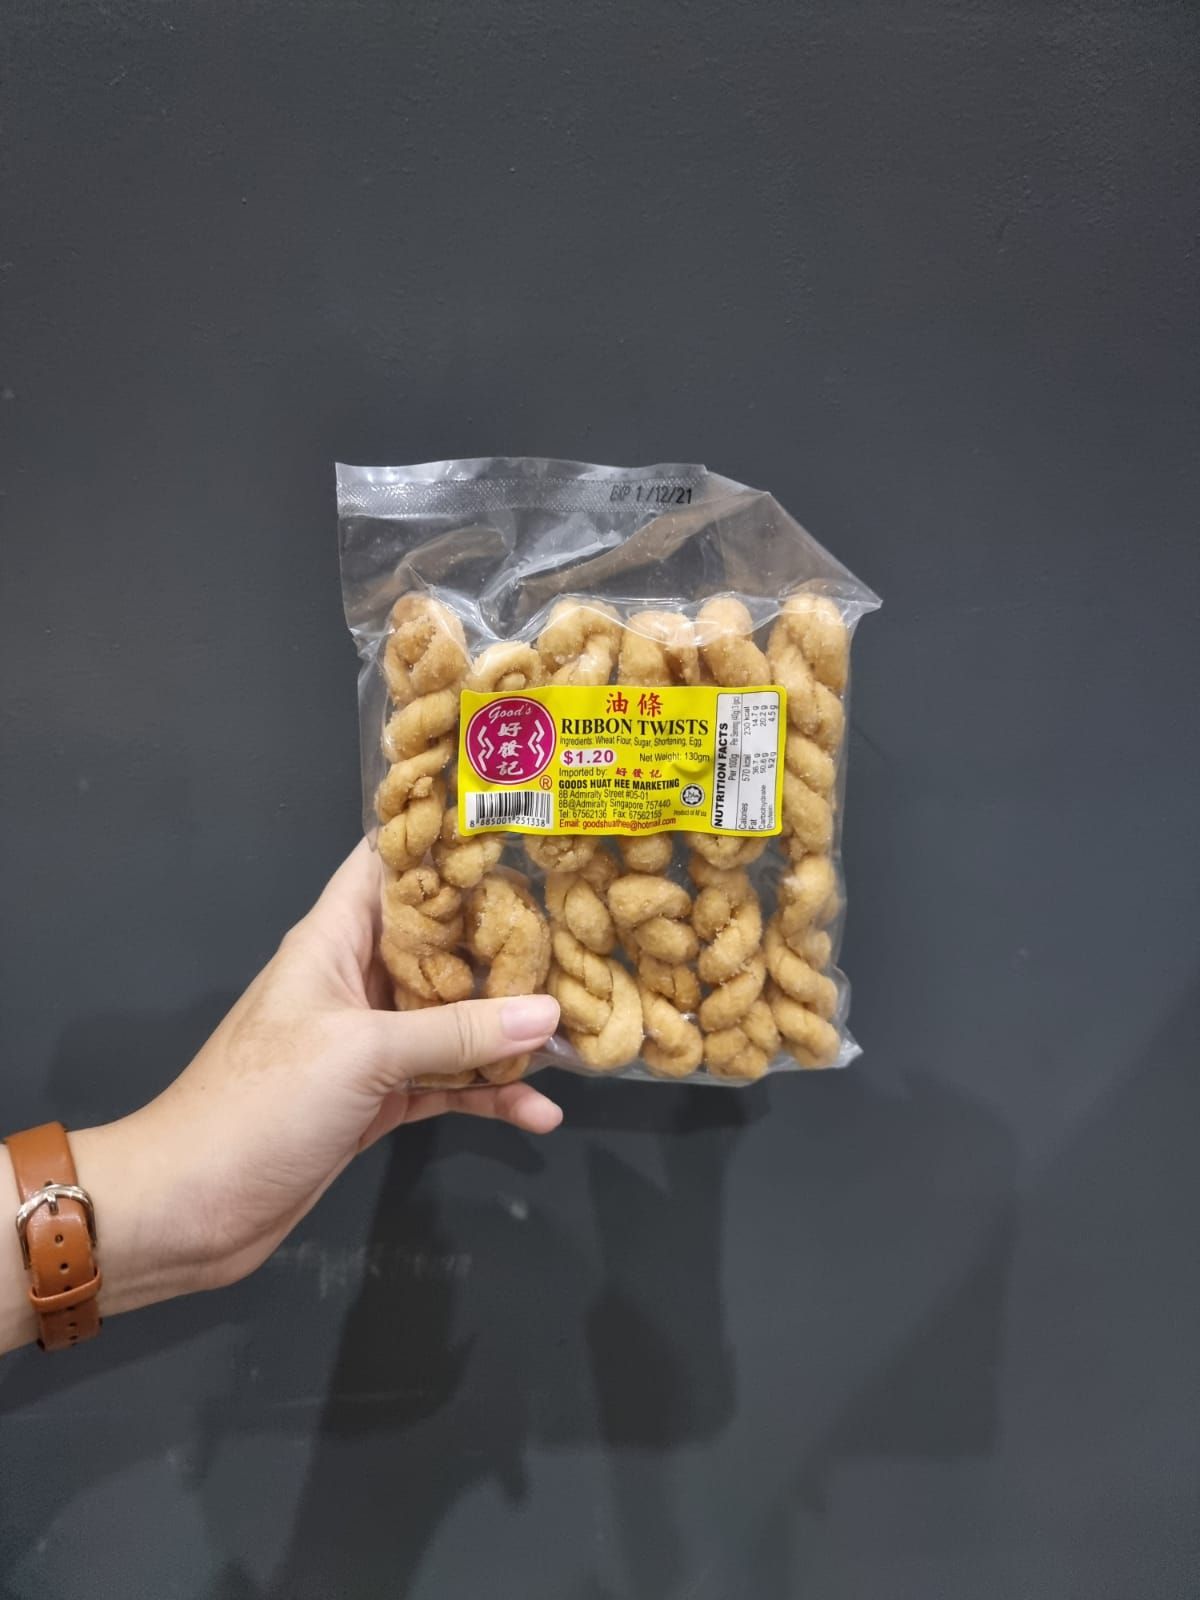Biscuits: (379, 576, 841, 1063)
